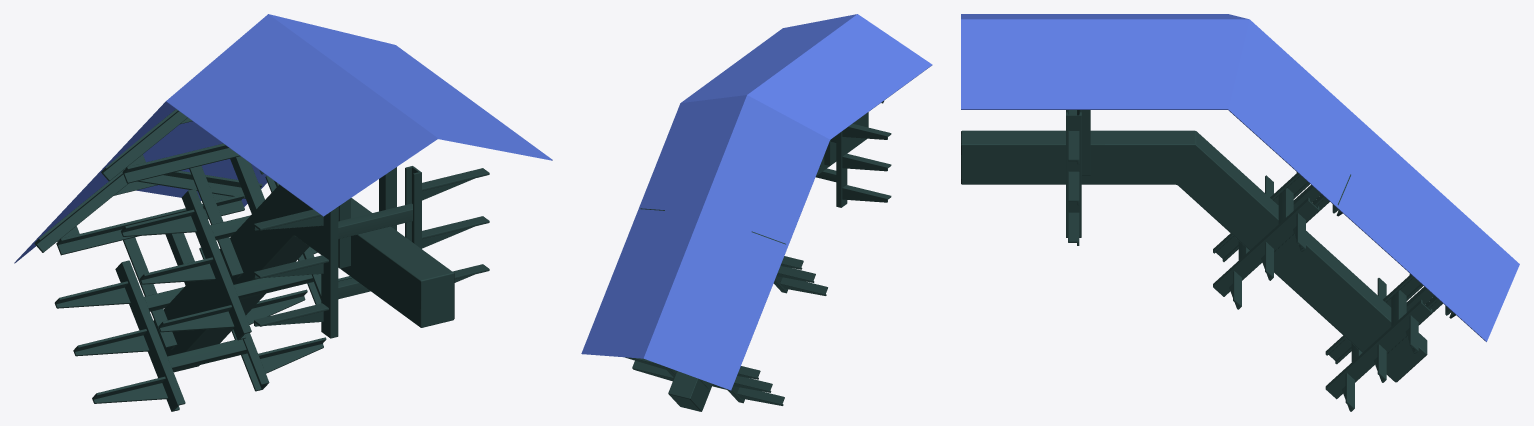
The model's file is SM_Down-45.fbx.
3 views of the same model, side by side, from view 1: azimuth 30°, elevation 25°; view 2: azimuth 150°, elevation 25°; view 3: azimuth 270°, elevation 25° (orthographic). The views are drawn at different scales.
Visible parts, largest first — view 1: SM_Down-45_LOD0; view 2: SM_Down-45_LOD0; view 3: SM_Down-45_LOD0.
Part boxes in pixels (bbox=[...]): SM_Down-45_LOD0: bbox=[14, 14, 552, 411]; SM_Down-45_LOD0: bbox=[581, 14, 932, 411]; SM_Down-45_LOD0: bbox=[961, 14, 1519, 411].
Size of what is drawn, in the model's own units: 100 by 177 by 248.
